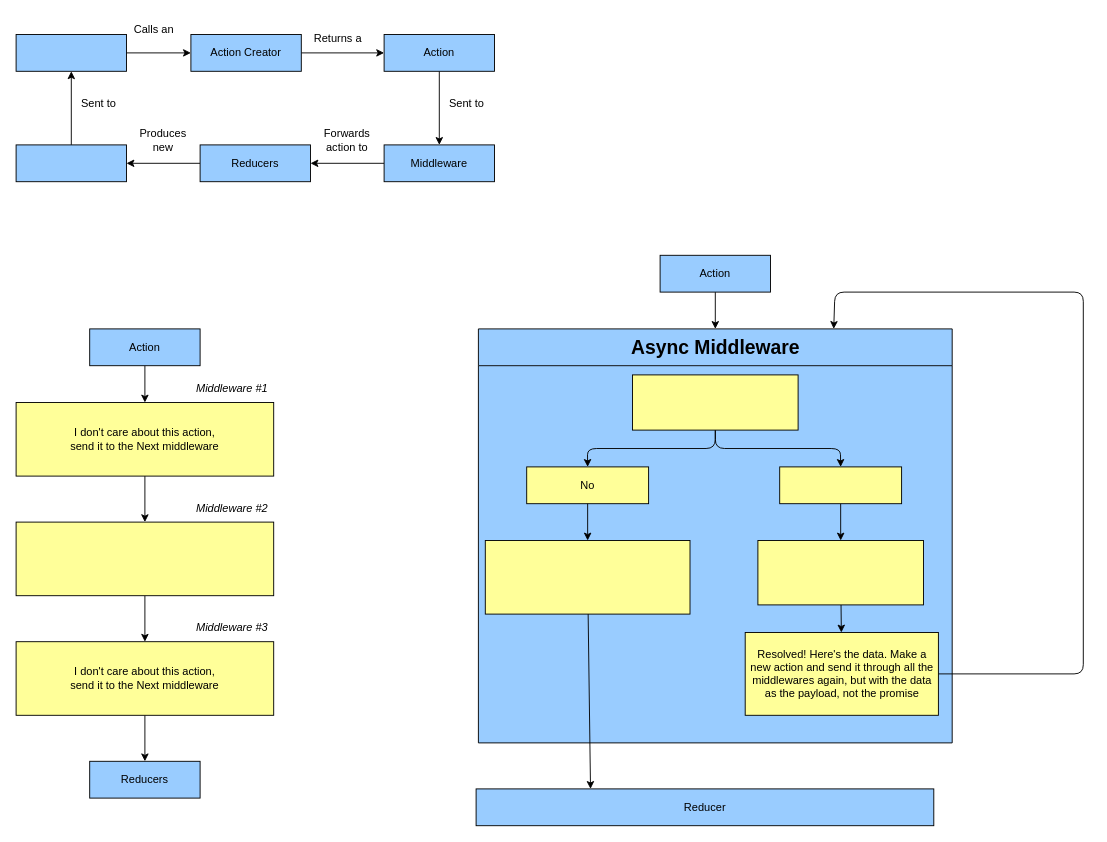
This 1107x842 diagram has some shape labels left out. Each missing label, with the centre of its shape:
Cool, let's wait for it to resolve (get a response): point (840, 572)
Does this action contain a promise?: point (715, 402)
I don't care about it, send it to the Next middleware: point (587, 577)
React: point (70, 52)
State: point (70, 163)
This action looks important, so I will console log it then forward it on: point (144, 558)
Yes: point (840, 485)
